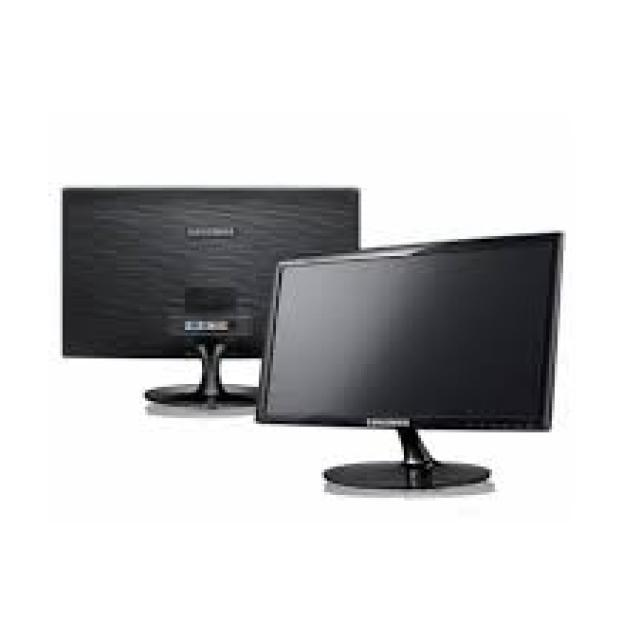monitor: (262, 212, 578, 504), (77, 181, 355, 423)
